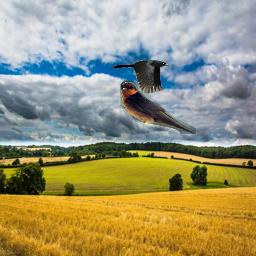Crow: (113, 59, 171, 94)
Swallow: (120, 80, 196, 134)
